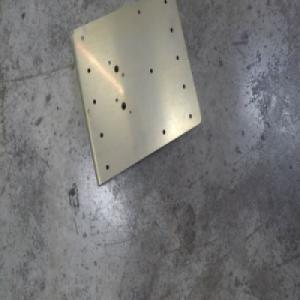MetalSheet: (68, 0, 203, 191)
